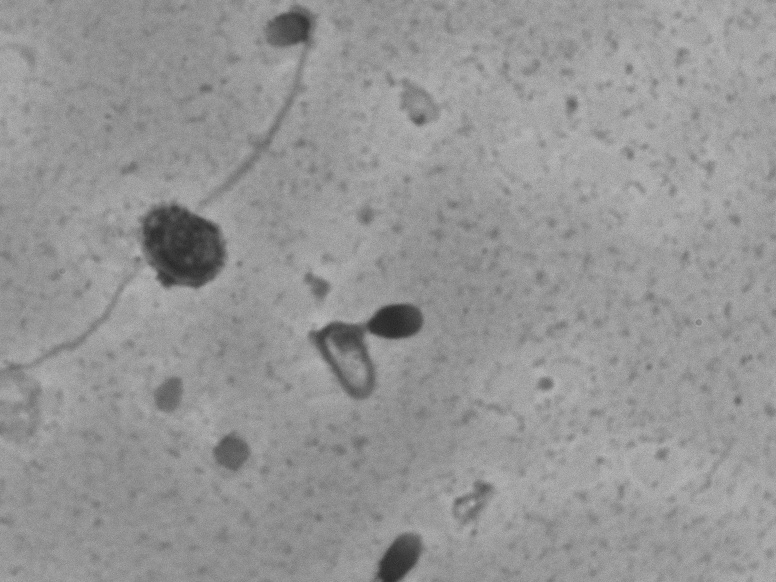Abnormal: (183, 8, 362, 194), (260, 277, 458, 426)
